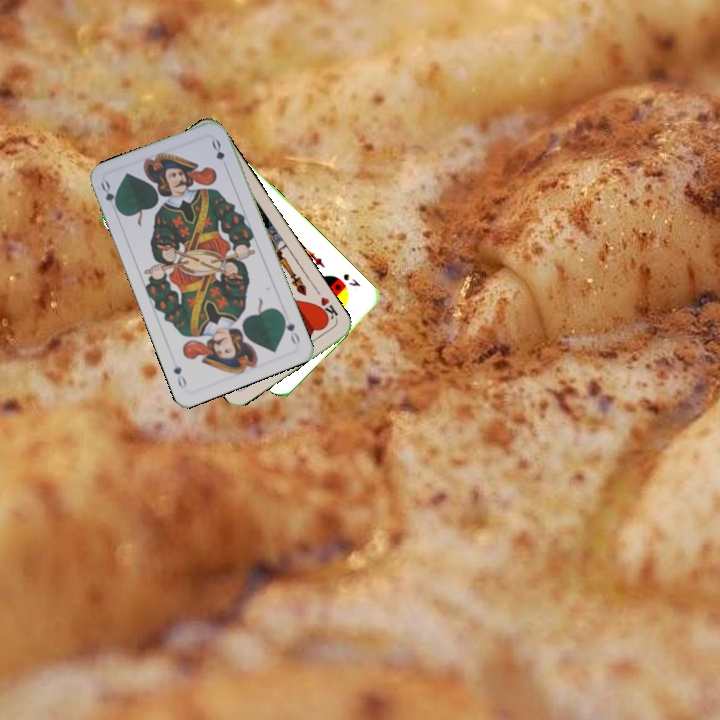GO: (97, 177, 123, 216), (278, 310, 303, 347)
HK: (313, 293, 340, 324)
SK: (339, 269, 363, 289)
